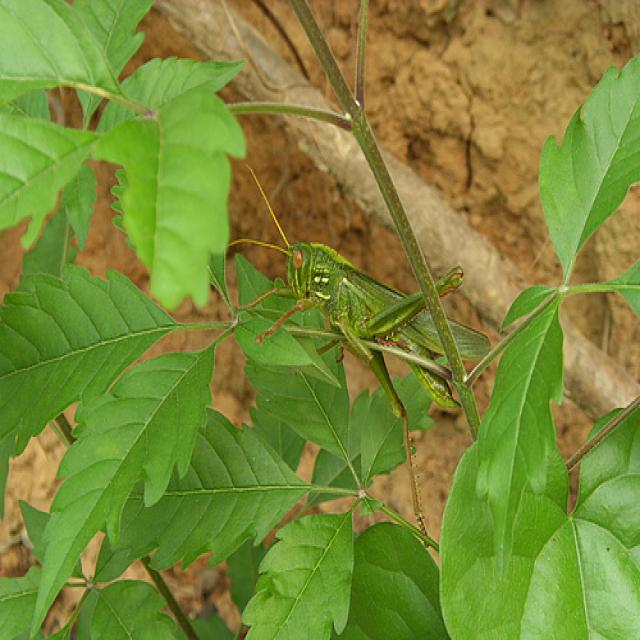ZhaMeng: (224, 178, 532, 408)
